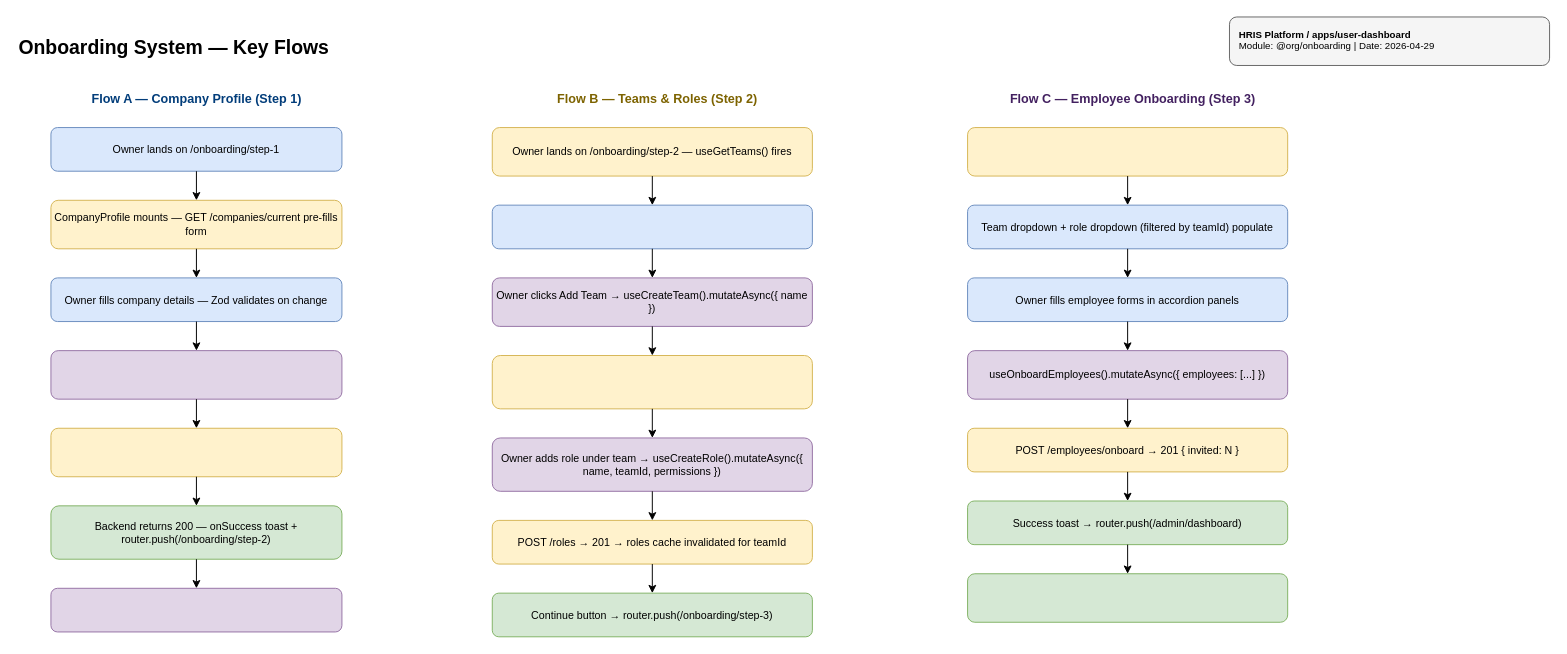
Some shapes in this 1567 by 654 pixel diagram are drawn without their labels. The centre of each missing label's shape, as x and y in pixels:
Existing teams render as accordion panels (one per team): the point at 651,226
MarkOnboardingComplete sets takenTour=true on dashboard mount: the point at 1127,597
OnboardingService → HttpAdapter → PATCH /companies/current: the point at 196,452
Owner lands on /onboarding/step-3 — useGetTeamsWithRoles() fires: the point at 1127,151
POST /teams → 201 → new accordion added, teams cache invalidated: the point at 651,382
TanStack Query invalidates companyProfile cache: the point at 196,609
useOnboardingService().useUpdateCompanyProfile().mutateAsync(data): the point at 196,374
